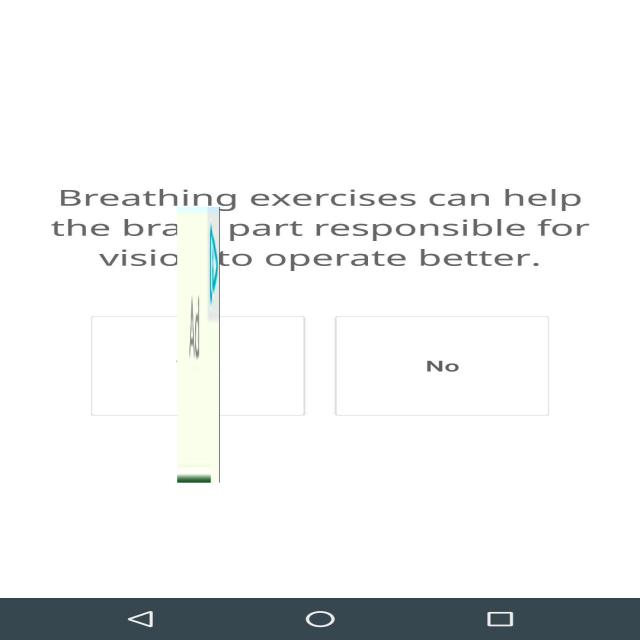sneaking: (177, 207, 220, 483)
